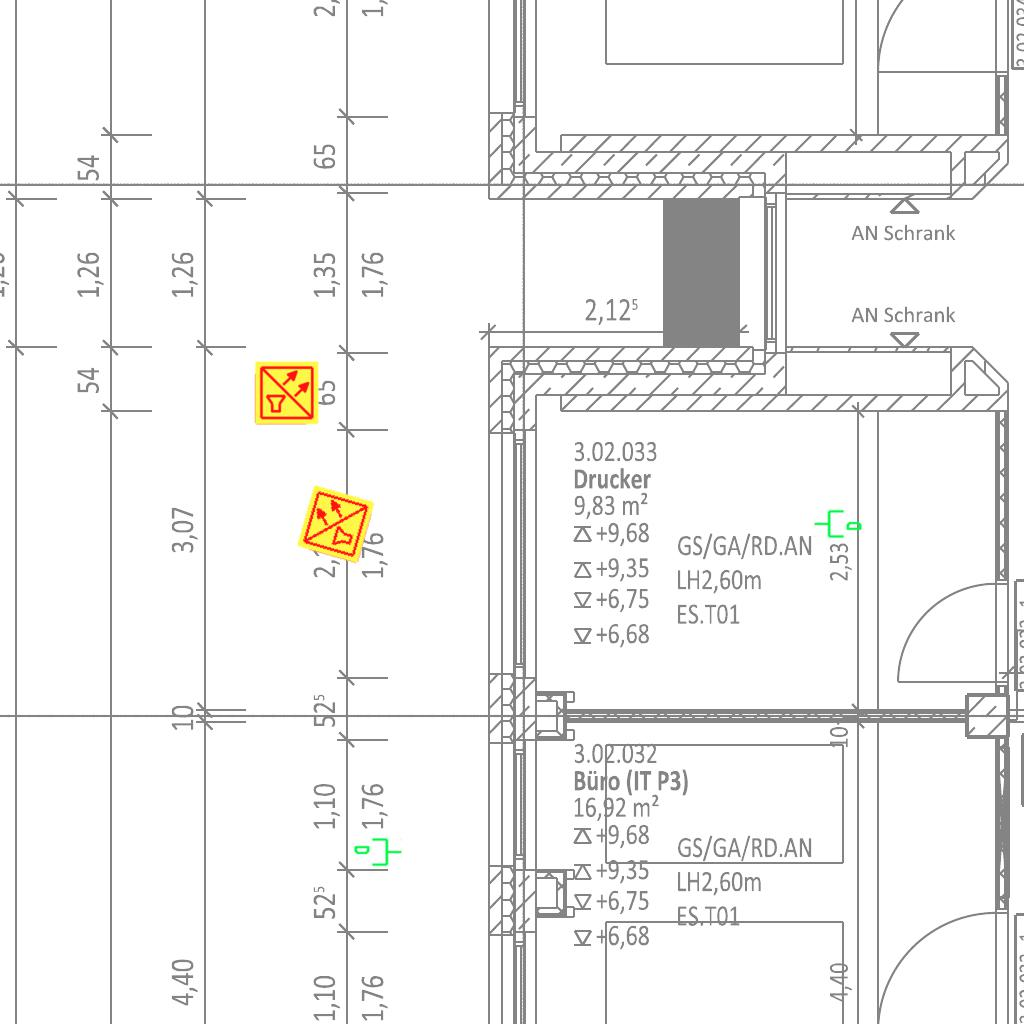Datenanschluss_einfach: (353, 836, 403, 870), (813, 506, 863, 540)
OKW_Multisensormelder_(Kombination_optischer_Rauch-Kahlenmonoxid_Waerme-Melder): (295, 483, 377, 565), (254, 360, 320, 426)
